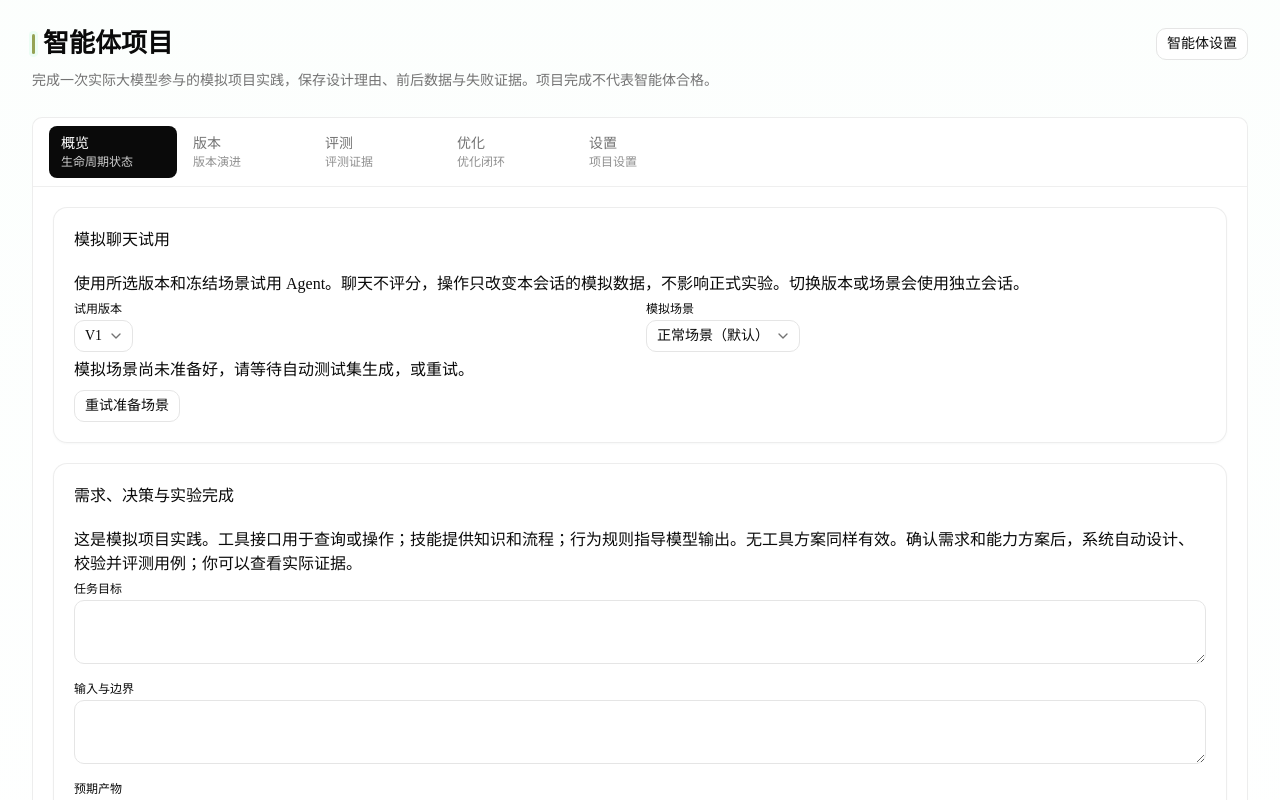
Test: explains unchanged configuration and exposes version detail
The width and height of the screenshot is (1280, 800).
Click the button "版本 版本演进" at x=245, y=152, box [181, 126, 309, 178]
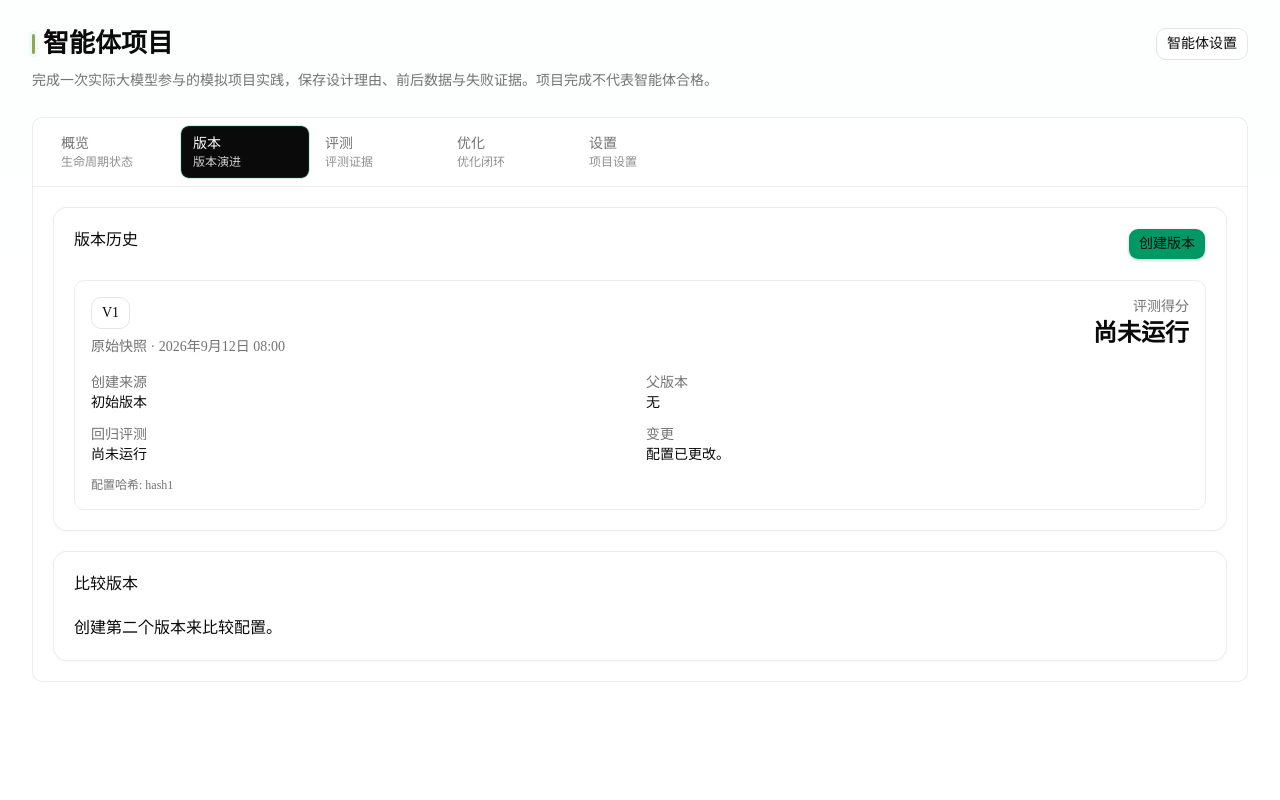
Click the button "创建版本" at x=1167, y=244, box [1128, 228, 1206, 260]
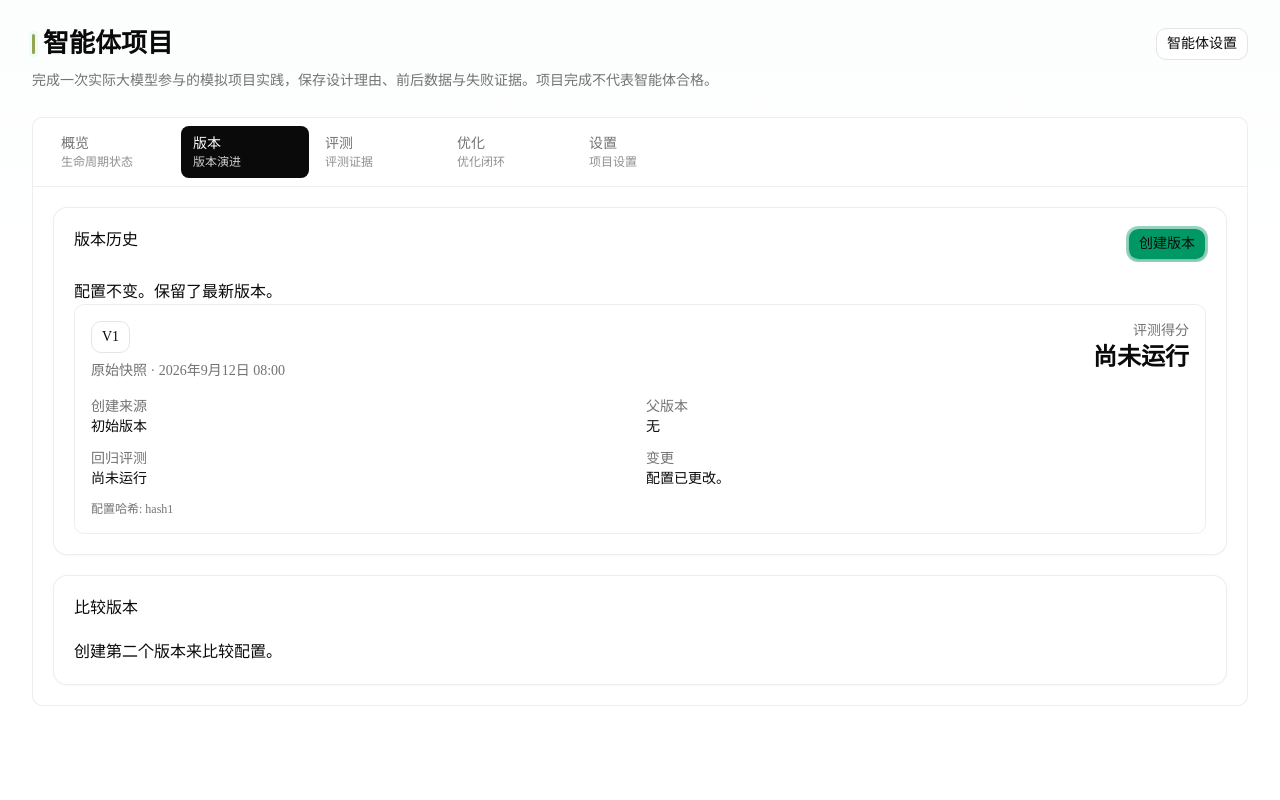
Expected: the text "配置不变。保留了最新版本。" is shown, [74, 282, 282, 300]
Click the button "V1" at x=111, y=336, box [91, 320, 130, 352]
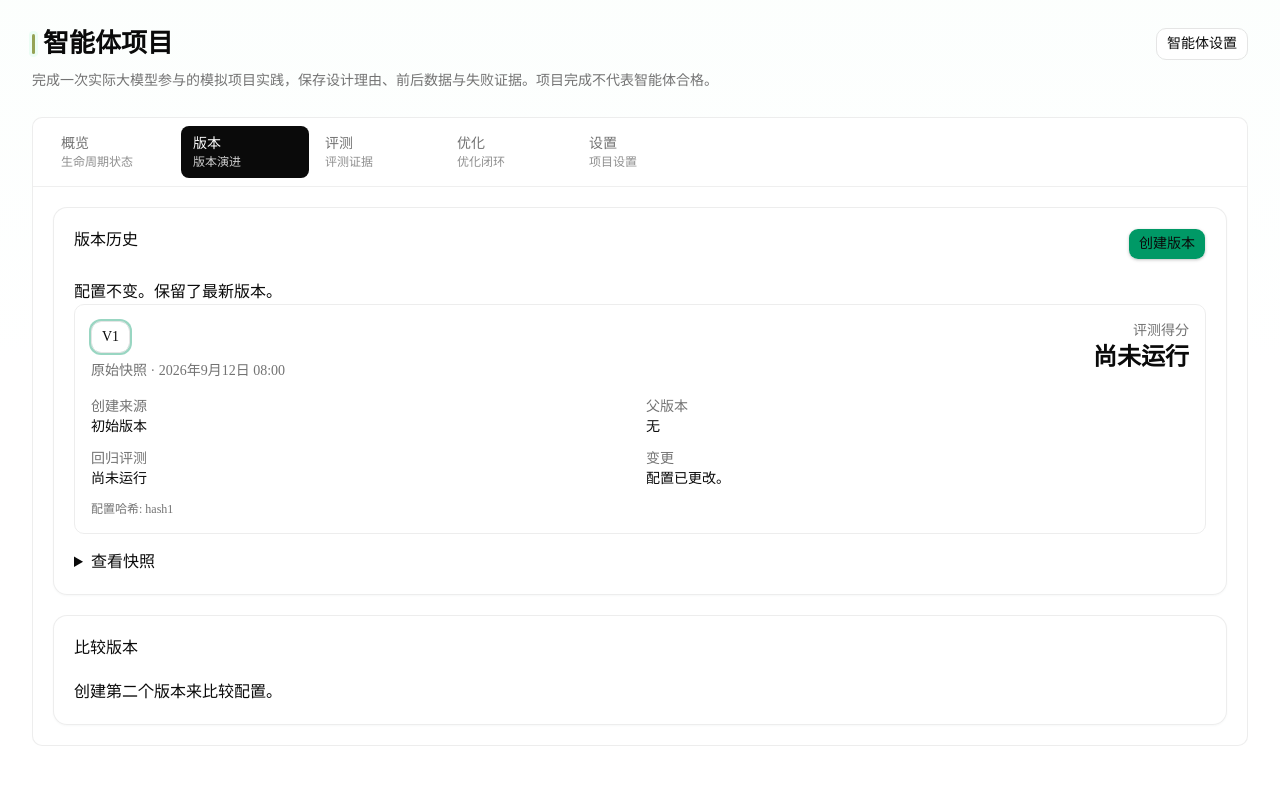
Click the heading "查看快照" at x=123, y=561, box [91, 552, 155, 570]
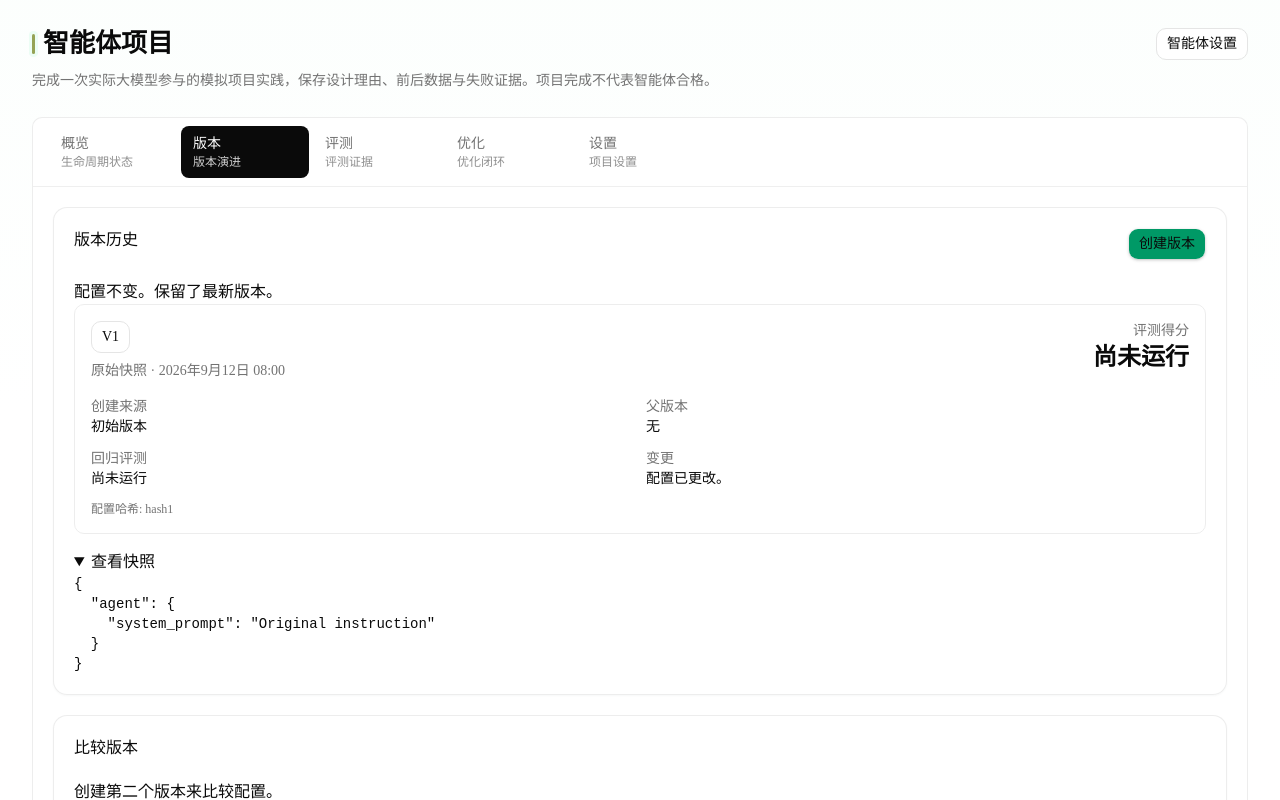
Expected: the text "{ \"agent\": { \"system_prompt\": \"Original instruction\" } }" is shown, [74, 576, 435, 672]
